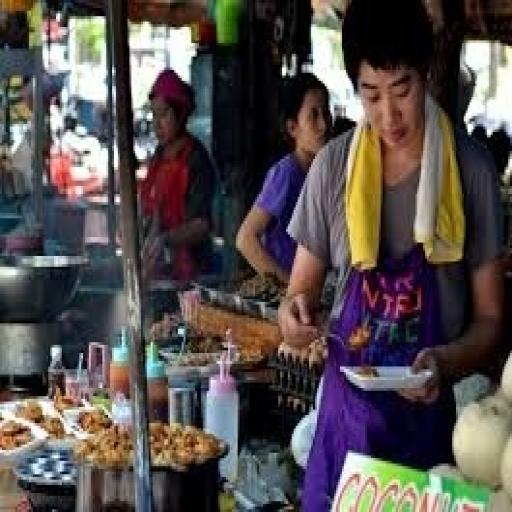eating: (276, 0, 506, 509)
